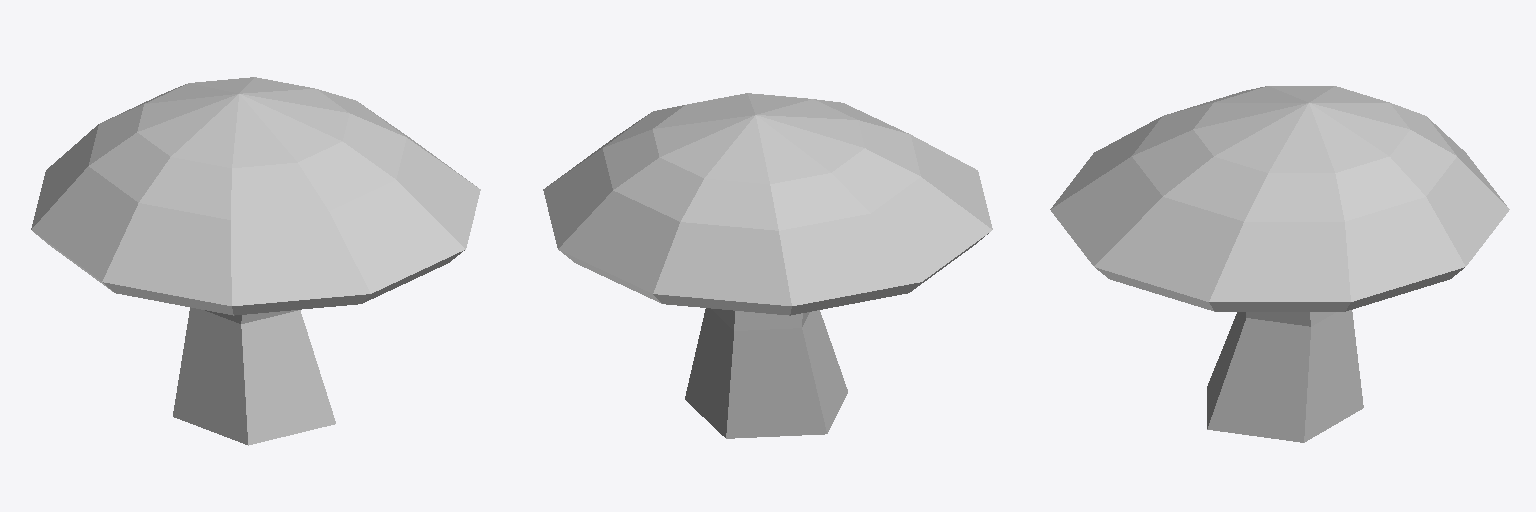
The model's file is Mushroom_3.obj.
3 views of the same model, side by side, from view 1: azimuth 30°, elevation 25°; view 2: azimuth 150°, elevation 25°; view 3: azimuth 270°, elevation 25° (orthographic).
Visible parts, largest first — view 1: Mushroom_3; view 2: Mushroom_3; view 3: Mushroom_3.
Part boxes in pixels (x1,y1,x2,y2): Mushroom_3: (31, 77, 480, 445); Mushroom_3: (543, 93, 992, 438); Mushroom_3: (1050, 86, 1509, 442).
Size of the model in its own units: 0.312 by 0.2395 by 0.3281.